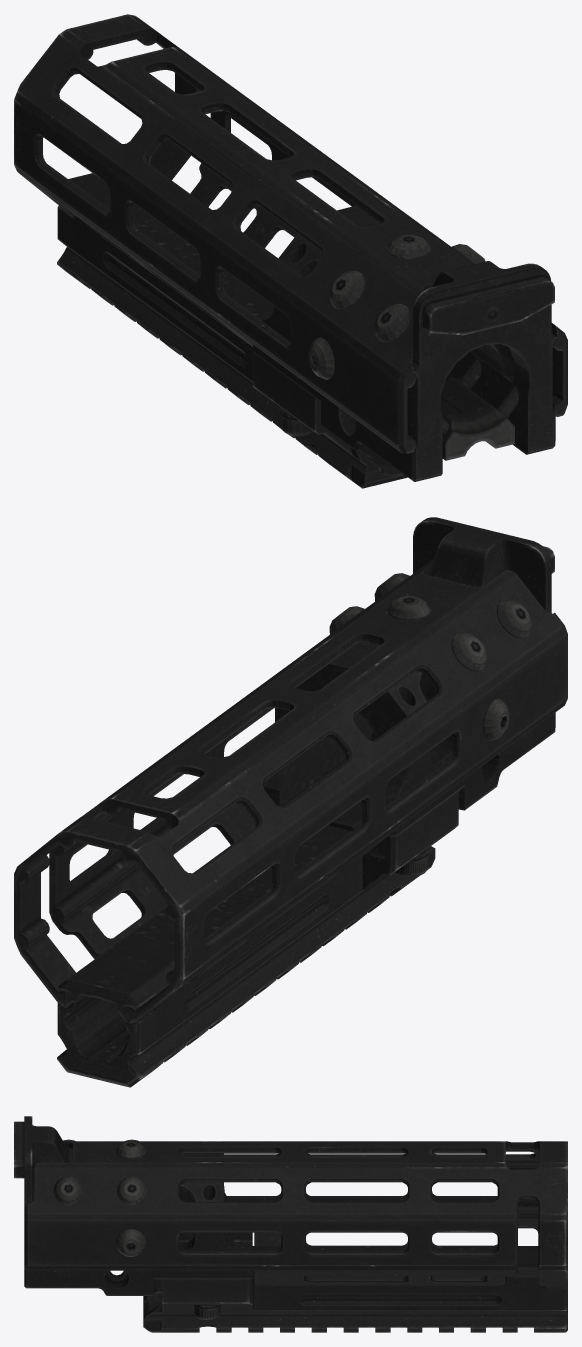
The picture shows the model from 3 angles, top to bottom: view 1: azimuth 30°, elevation 25°; view 2: azimuth 150°, elevation 25°; view 3: azimuth 270°, elevation 25°; orthographic projection. The views are drawn at different scales.
Visible parts, largest first — view 1: TW_676177df1f08ed5e8800b7ae_PZ_Import; view 2: TW_676177df1f08ed5e8800b7ae_PZ_Import; view 3: TW_676177df1f08ed5e8800b7ae_PZ_Import.
Boxes of the visible parts, x1=… form: TW_676177df1f08ed5e8800b7ae_PZ_Import: x1=14, y1=14, x2=567, y2=488; TW_676177df1f08ed5e8800b7ae_PZ_Import: x1=14, y1=517, x2=567, y2=1087; TW_676177df1f08ed5e8800b7ae_PZ_Import: x1=14, y1=1116, x2=567, y2=1332.
Size of the model in its own units: 0.0279 by 0.1008 by 0.0377.
1 material, 1 textured.
